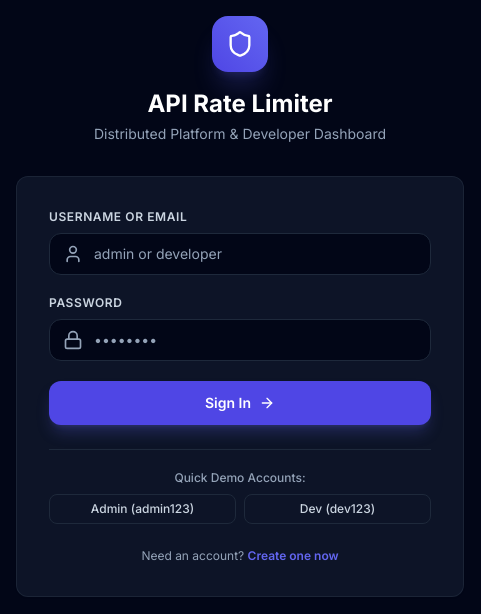
Test: LoginPage Component › autofills admin credentials when quick button is clicked
Click the button "Admin (admin123)".
click(142, 508)  # box [49,494,236,524]
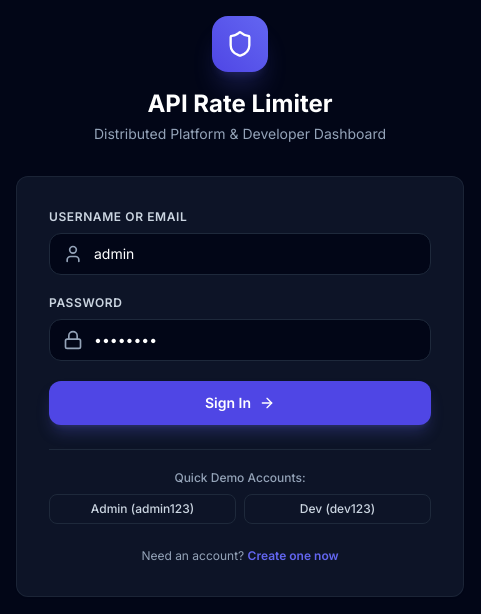
Result: the field with placeholder "admin or developer" holds "admin" at [49,232,431,274]
